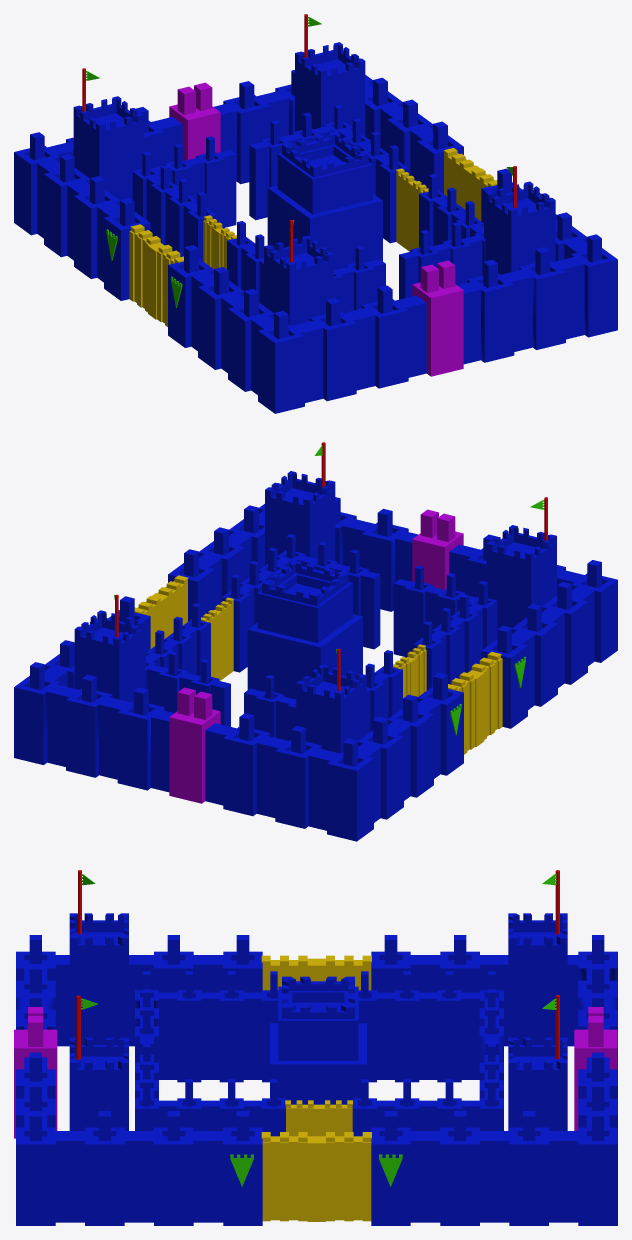
The model's file is Headquarters.fbx.
3 renders of one model, top to bottom at view 1: azimuth 30°, elevation 25°; view 2: azimuth 150°, elevation 25°; view 3: azimuth 270°, elevation 25°, orthographic. The views are drawn at different scales.
Visible parts, largest first — view 1: Cube.007; view 2: Cube.007; view 3: Cube.007.
Part boxes in pixels (bbox=[...]): Cube.007: bbox=[14, 14, 617, 413]; Cube.007: bbox=[14, 442, 617, 841]; Cube.007: bbox=[14, 870, 617, 1225].
Bounding box in the file's own units: 2323 × 1044 × 3056.
